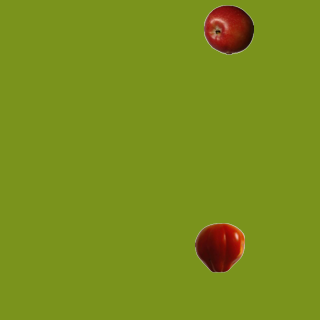Apple Braeburn: (203, 4, 253, 54)
Tomato 1: (194, 222, 244, 272)
